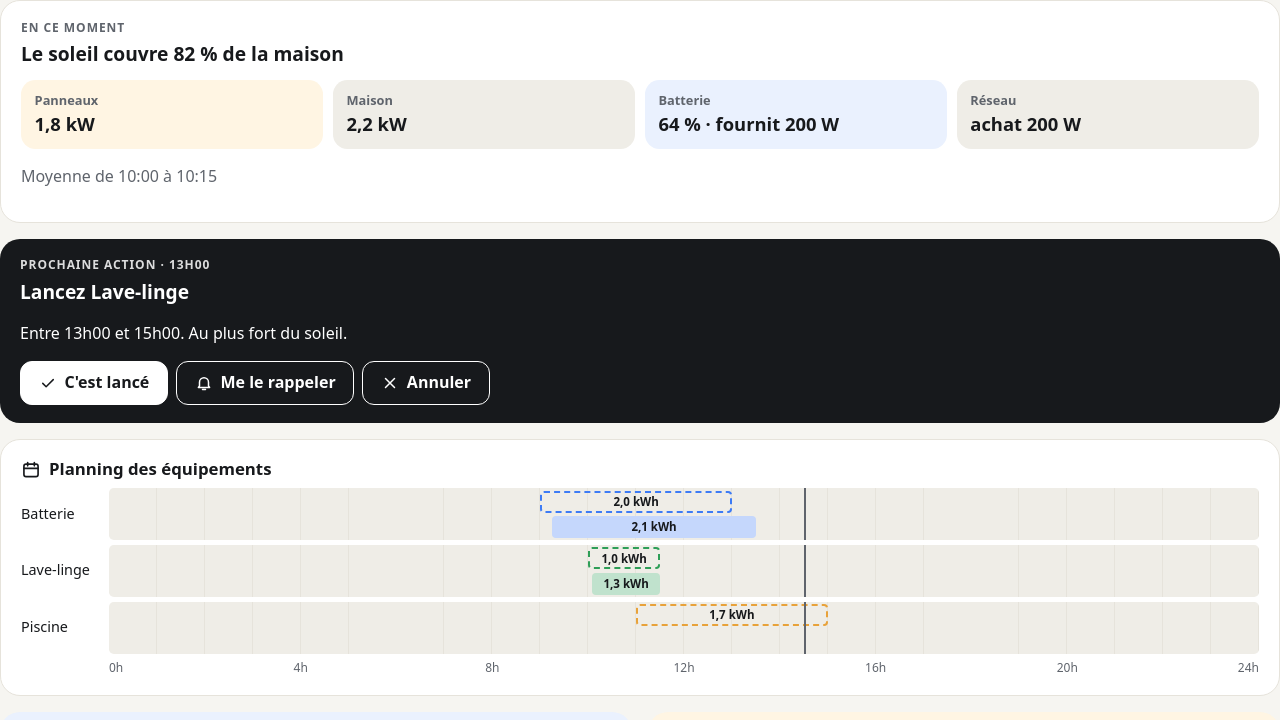
Scenario: TodayView › propose la prochaine action, la cache une fois lancée
Expected: the heading "Lancez Lave-linge" is shown, [20, 278, 189, 305]
Expected: the text "Entre 13h00 et 15h00. Au plus fort du soleil." is shown, [20, 322, 347, 344]
Click the button "C'est lancé".
click(94, 383)  # box [20, 361, 168, 405]
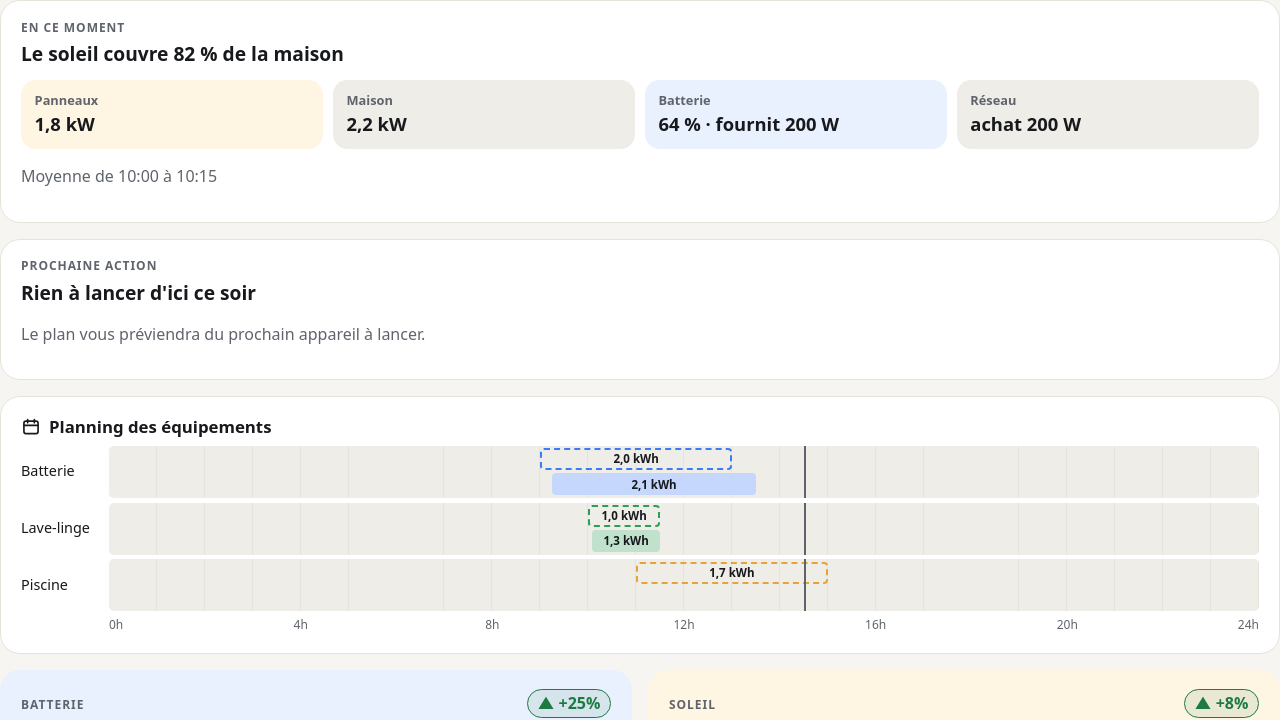
Expected: the heading "Rien à lancer d'ici ce soir" is shown, [21, 279, 256, 306]
